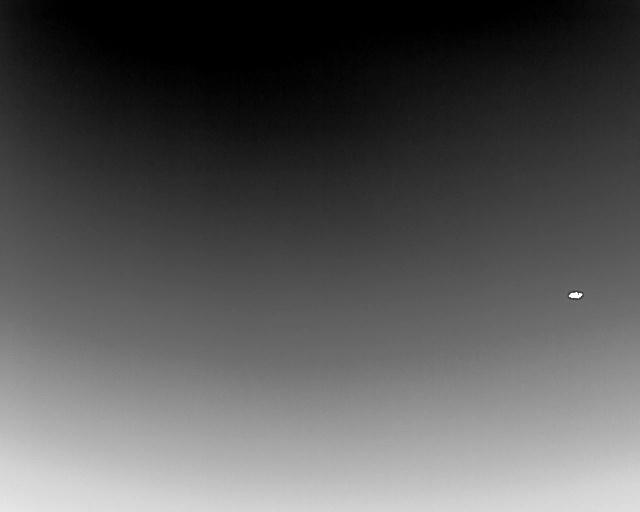fpv-drone: (567, 290, 584, 300)
